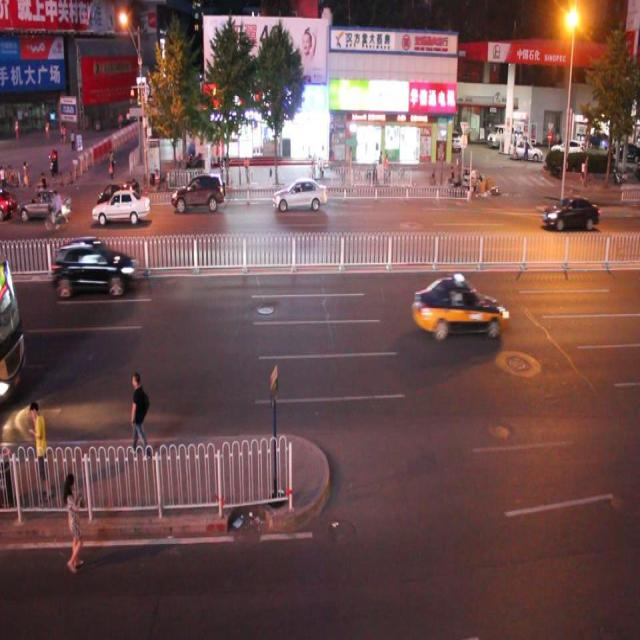car: (412, 274, 508, 338), (51, 238, 138, 293), (170, 170, 226, 213), (272, 174, 326, 215), (18, 185, 72, 223), (93, 188, 150, 223), (543, 195, 598, 230), (101, 180, 145, 223)
